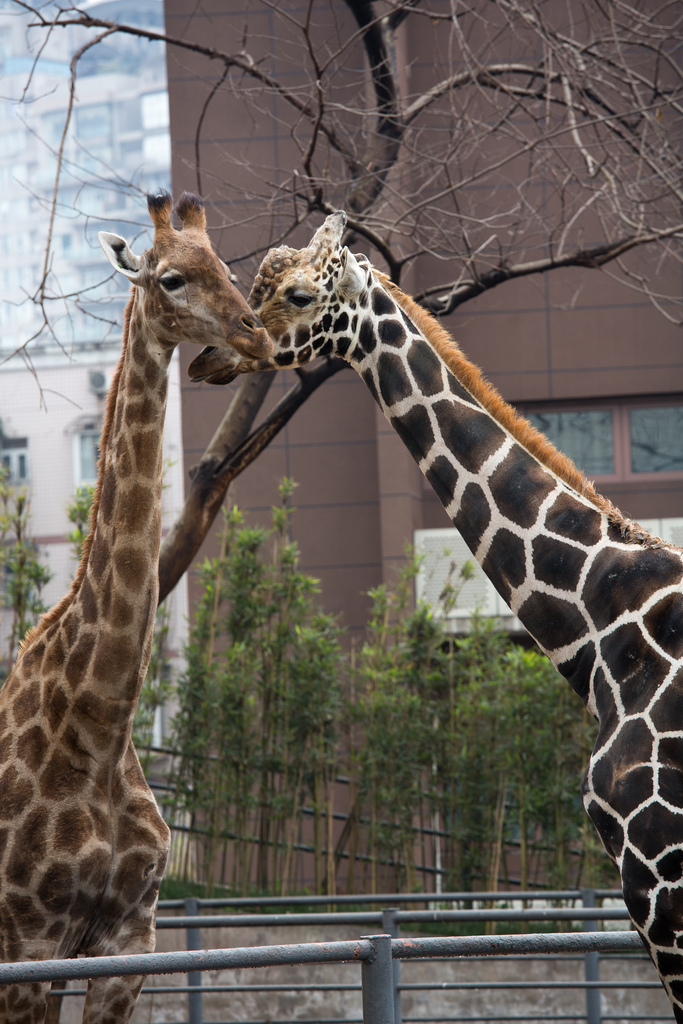giraffe: (191, 214, 681, 932), (41, 195, 289, 932)
